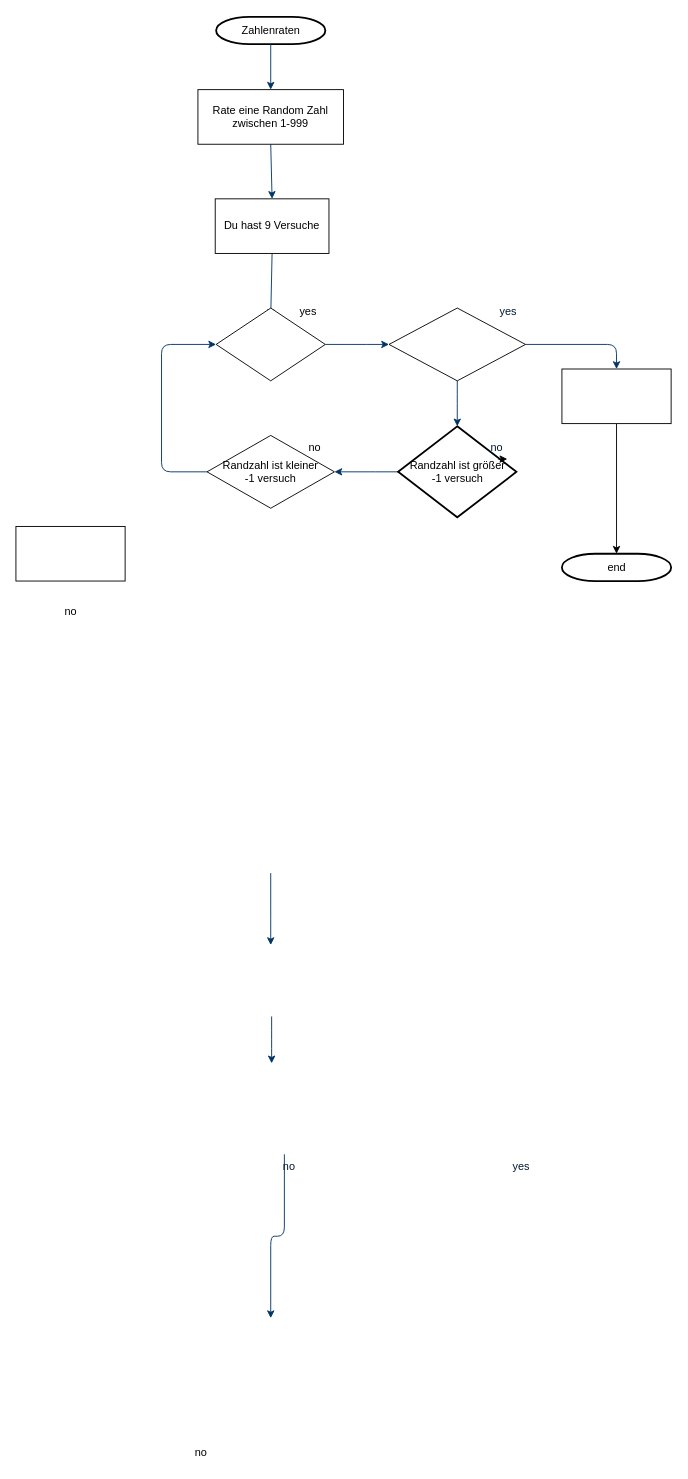
The diagram is 688 pixels wide and 1479 high, and some of its shapes have lost their labels. The shapes that lost their labels are listed below. From the top down, each one's centre as x and y in pixels, then its label:
[270,344]: Zahlausgabe Randzahl = <0
[457,344]: Zahl == Randzahl
[616,396]: Zahl stimmt du hast gewonnen
